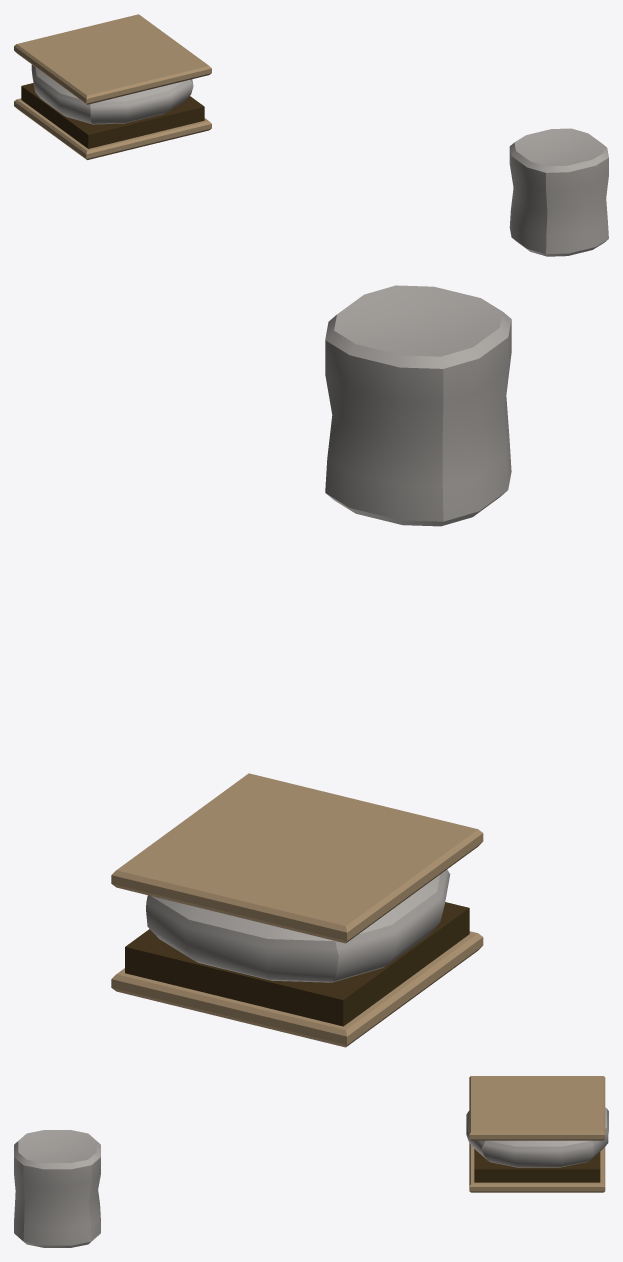
Rendered from MarshmallowSmor.fbx.
3 renders of one model, top to bottom at view 1: azimuth 30°, elevation 25°; view 2: azimuth 150°, elevation 25°; view 3: azimuth 270°, elevation 25°, orthographic. The views are drawn at different scales.
Parts seen in each view (by area): view 1: Smore, Marshmallow; view 2: Smore, Marshmallow; view 3: Smore, Marshmallow.
Boxes of the visible parts, x1,y1,x2,y2 form: Smore: (14, 14, 211, 159); Marshmallow: (509, 128, 608, 256); Smore: (111, 773, 483, 1047); Marshmallow: (325, 285, 511, 526); Smore: (466, 1076, 608, 1192); Marshmallow: (14, 1130, 100, 1247).
Bounding box in the file's own units: 3.44 × 1.24 × 6.35.
